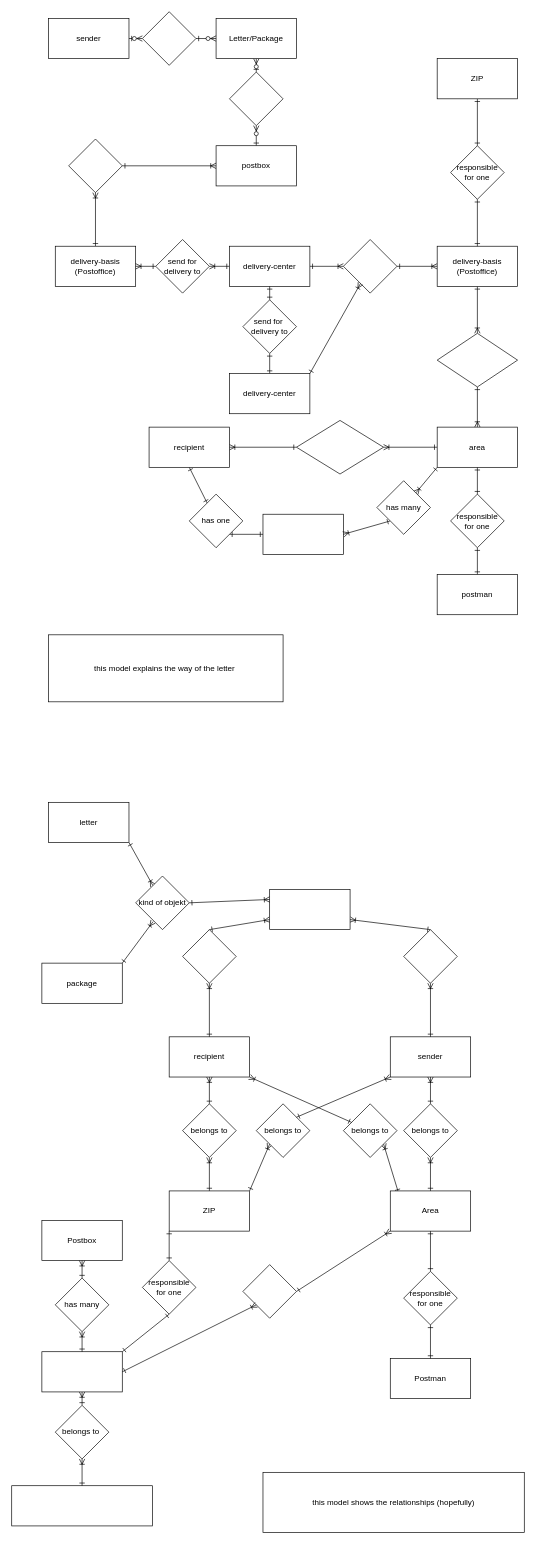
Some shapes in this 536 by 1544 pixel diagram are drawn without their labels. Here are the shapes that lost their labels. From the top down, the box of each, then its label:
(142, 11, 196, 65): write
(229, 71, 283, 126): put into the
(68, 138, 122, 193): collect
(343, 239, 397, 293): send to recipient
(437, 333, 518, 387): orders to the right
(296, 420, 384, 474): postman delivers to
(262, 514, 343, 554): address
(269, 889, 350, 930): objekt information
(182, 929, 236, 983): gets
(403, 929, 457, 983): send
(242, 1264, 296, 1318): responsible for many
(41, 1351, 122, 1392): Delivery-basis
(11, 1485, 152, 1526): Delivery_center (for long distances sending from center to center )
